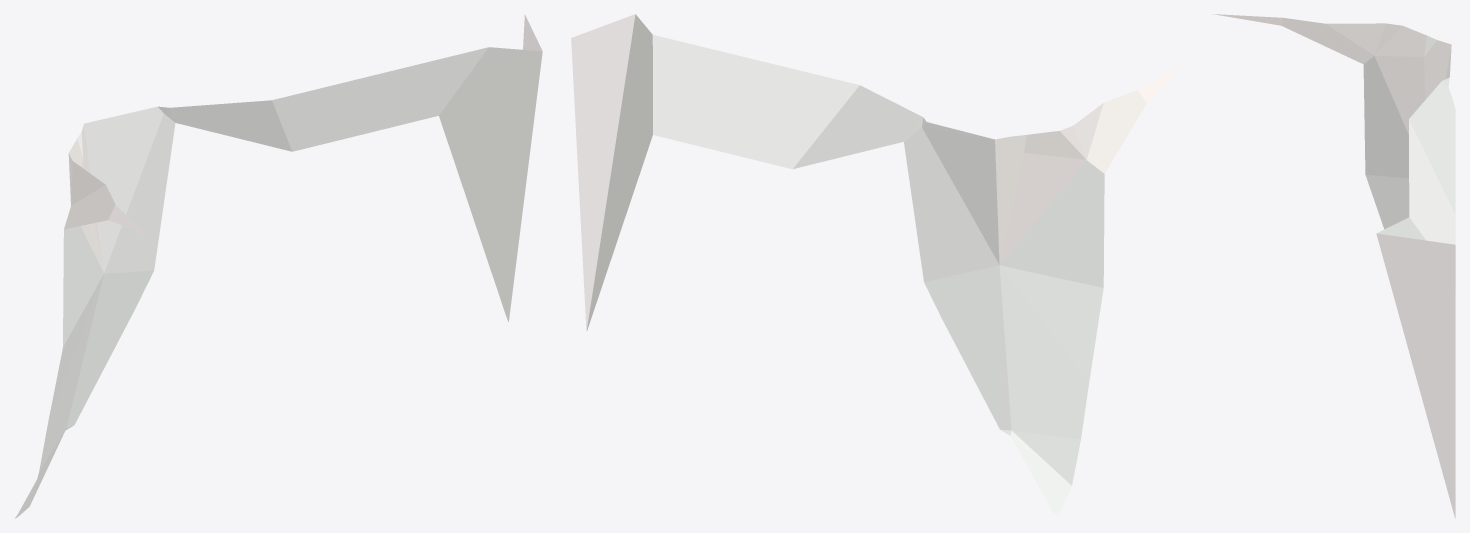
The picture shows the model from 3 angles, left to right: view 1: azimuth 30°, elevation 25°; view 2: azimuth 150°, elevation 25°; view 3: azimuth 270°, elevation 25°; orthographic projection. The views are drawn at different scales.
Size of the model in its own units: 3.47 by 2.47 by 1.55.
Materials: 1 (1 with a texture image).
